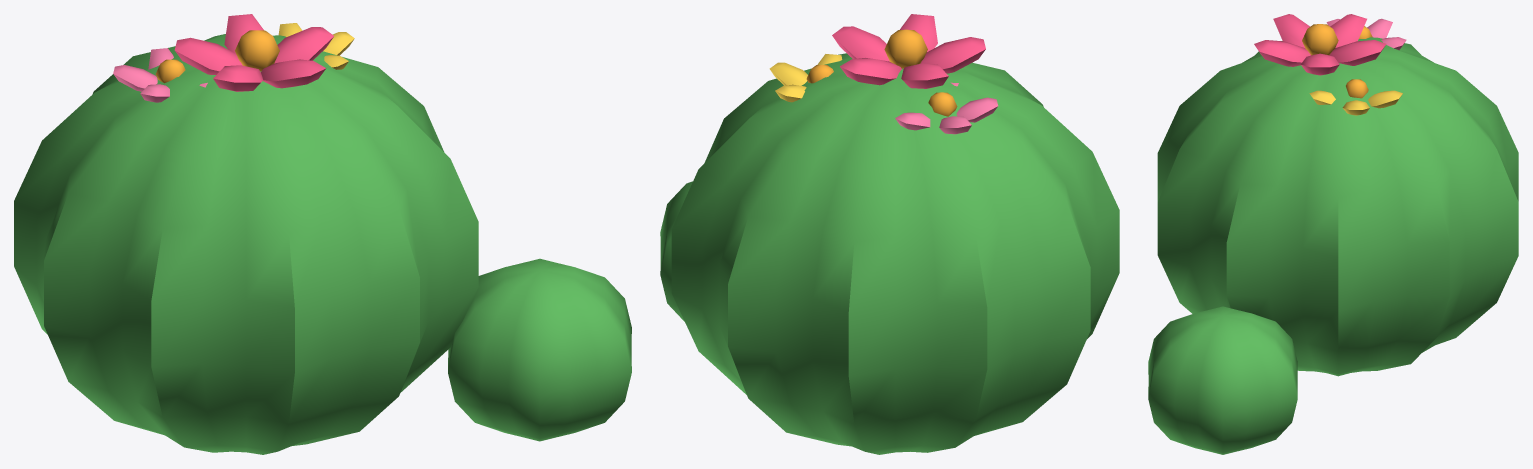
The model's file is cactus_round.glb.
3 views of the same model, side by side, from view 1: azimuth 30°, elevation 25°; view 2: azimuth 150°, elevation 25°; view 3: azimuth 270°, elevation 25° (orthographic). The views are drawn at different scales.
Parts seen in each view (by area): view 1: cactus_round; view 2: cactus_round; view 3: cactus_round.
Boxes of the visible parts, box(x1,y1,x2,y2) form: cactus_round: box(14, 14, 631, 454); cactus_round: box(660, 14, 1119, 454); cactus_round: box(1148, 14, 1518, 454).
Bounding box in the file's own units: 1.35 × 1.04 × 1.03.
